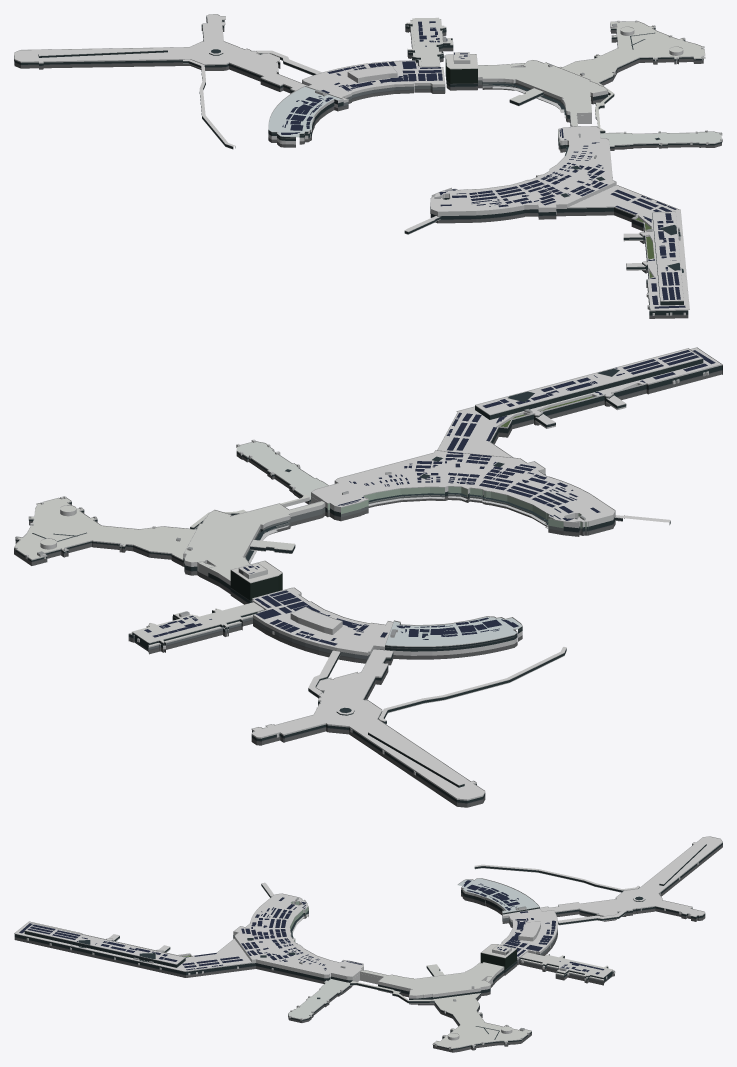
File: domestic_lod2.glb
The picture shows the model from 3 angles, top to bottom: view 1: azimuth 30°, elevation 25°; view 2: azimuth 150°, elevation 25°; view 3: azimuth 270°, elevation 25°; orthographic projection. The views are drawn at different scales.
Visible parts, largest first — view 1: L2_domestic; view 2: L2_domestic; view 3: L2_domestic.
Boxes of the visible parts, x1,y1,x2,y2 form: L2_domestic: [14, 14, 722, 318]; L2_domestic: [14, 347, 722, 807]; L2_domestic: [14, 836, 722, 1052].
Size of the model in its own units: 844 by 38.35 by 1196.
